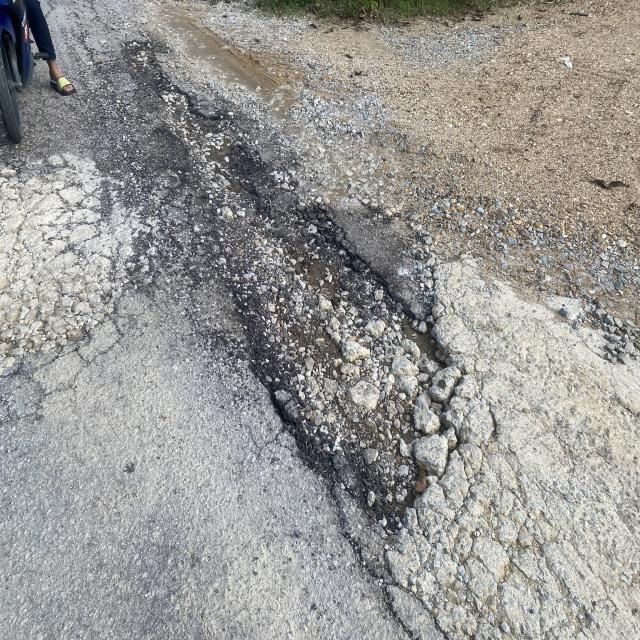Pothole: (139, 73, 518, 533)
